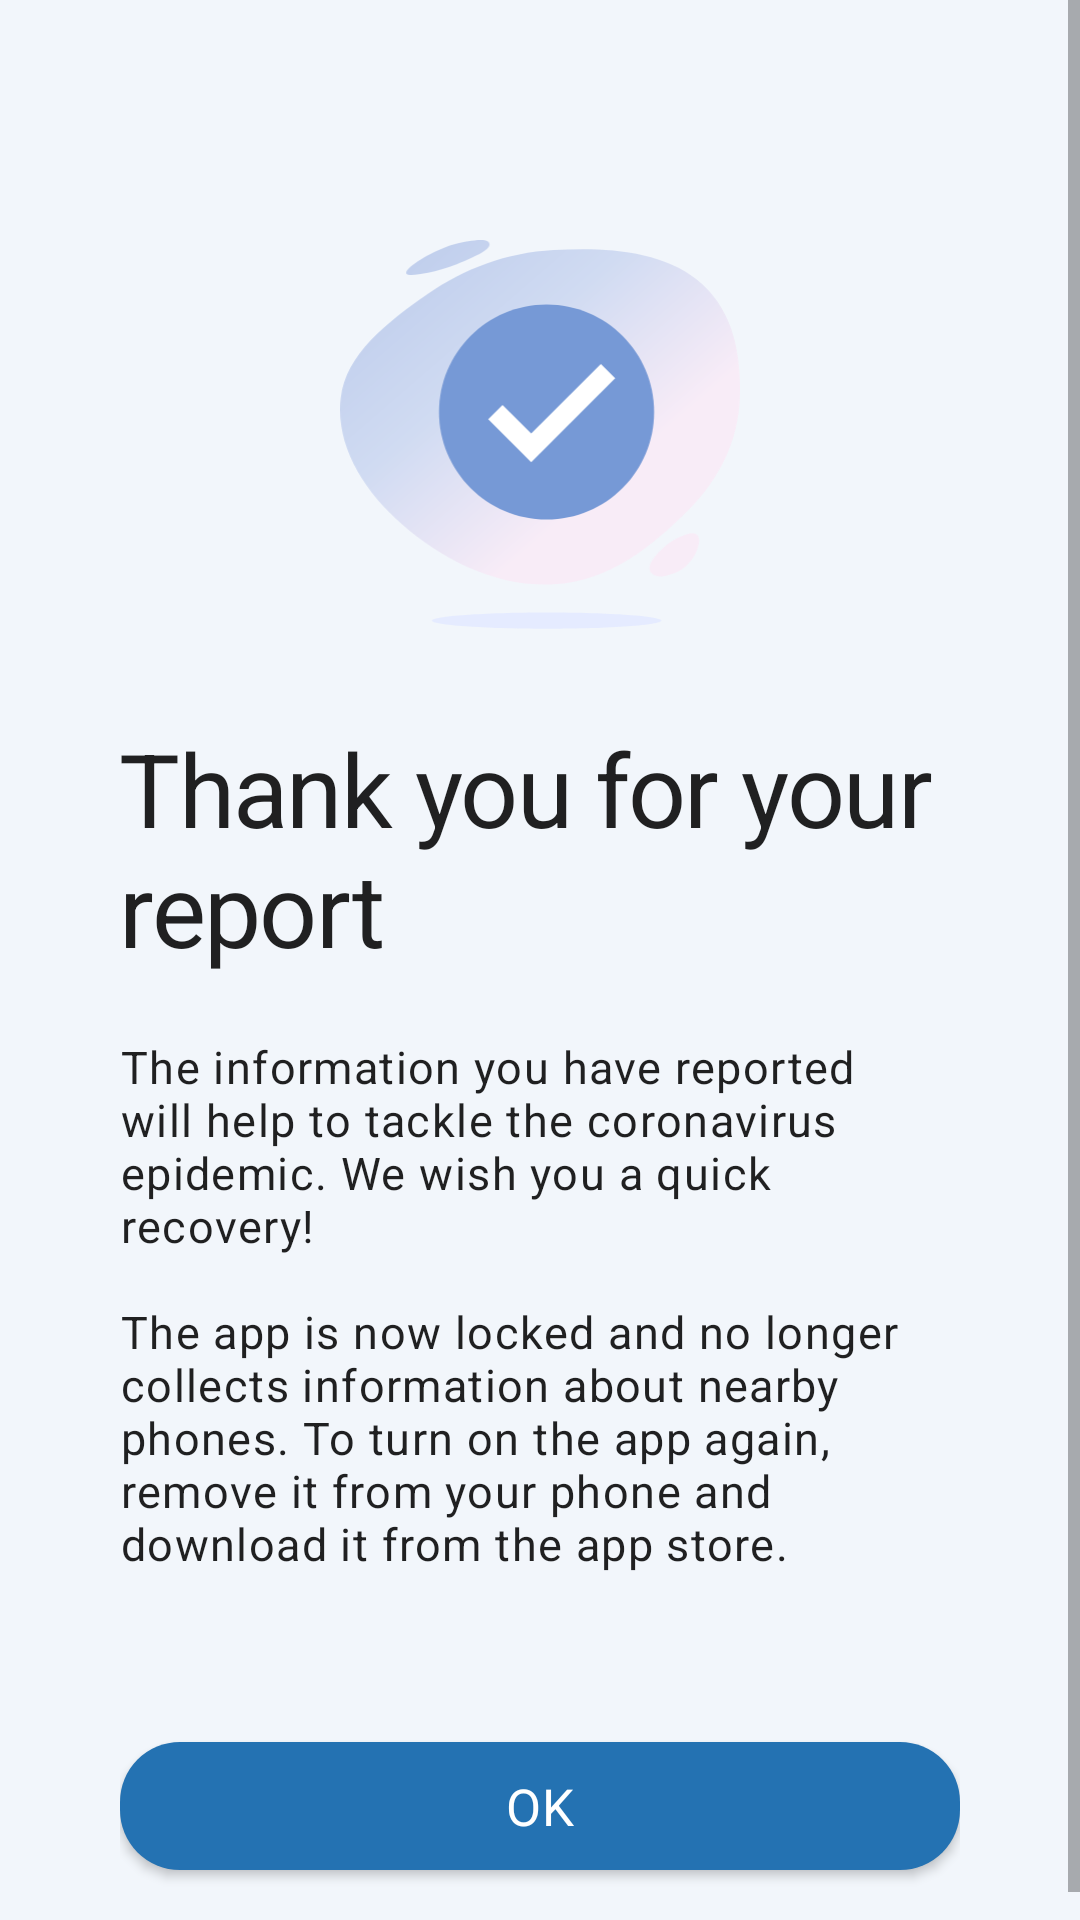

Where icons sit on this 1080 × 1920 app screen, as {"left": x1, "top": y1, "right": x2, "bottom": y2}:
ok complete: {"left": 340, "top": 240, "right": 668, "bottom": 520}
